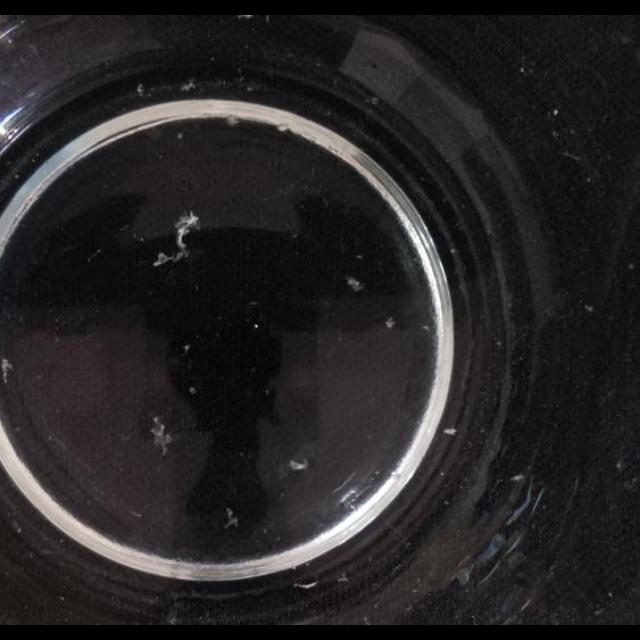Fibre: (151, 210, 201, 266), (148, 415, 174, 455), (223, 508, 239, 530), (0, 358, 14, 382), (346, 276, 364, 292), (180, 78, 197, 92), (136, 83, 146, 95)
microbeads: (288, 458, 308, 470), (384, 316, 396, 328), (510, 473, 526, 481), (442, 428, 456, 436), (182, 345, 190, 355), (420, 324, 430, 332), (584, 304, 594, 312), (189, 386, 197, 394), (176, 132, 184, 140), (628, 262, 634, 270), (520, 66, 526, 74), (553, 108, 559, 115), (253, 323, 259, 329)
